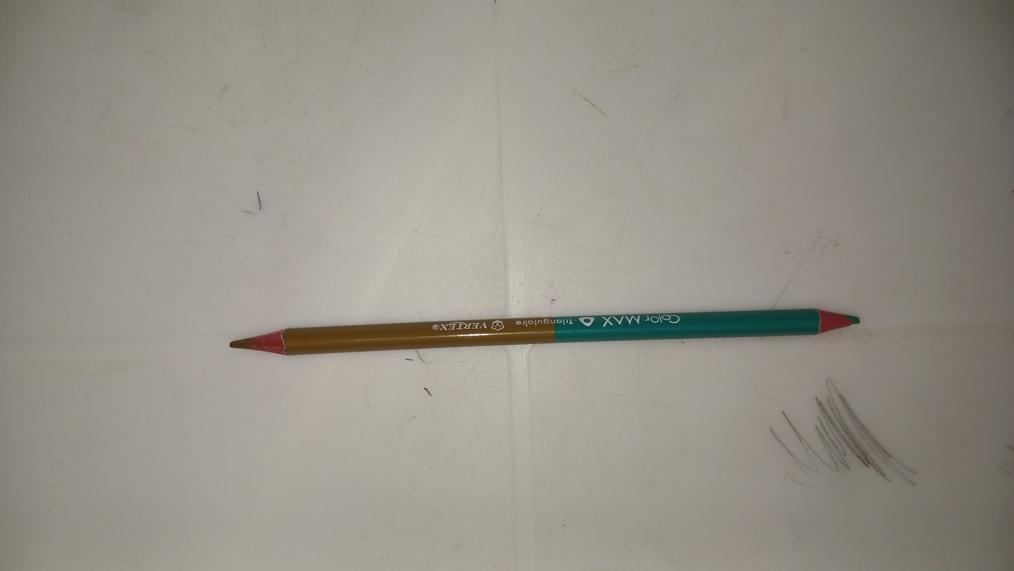Pencil: (226, 307, 862, 360)
